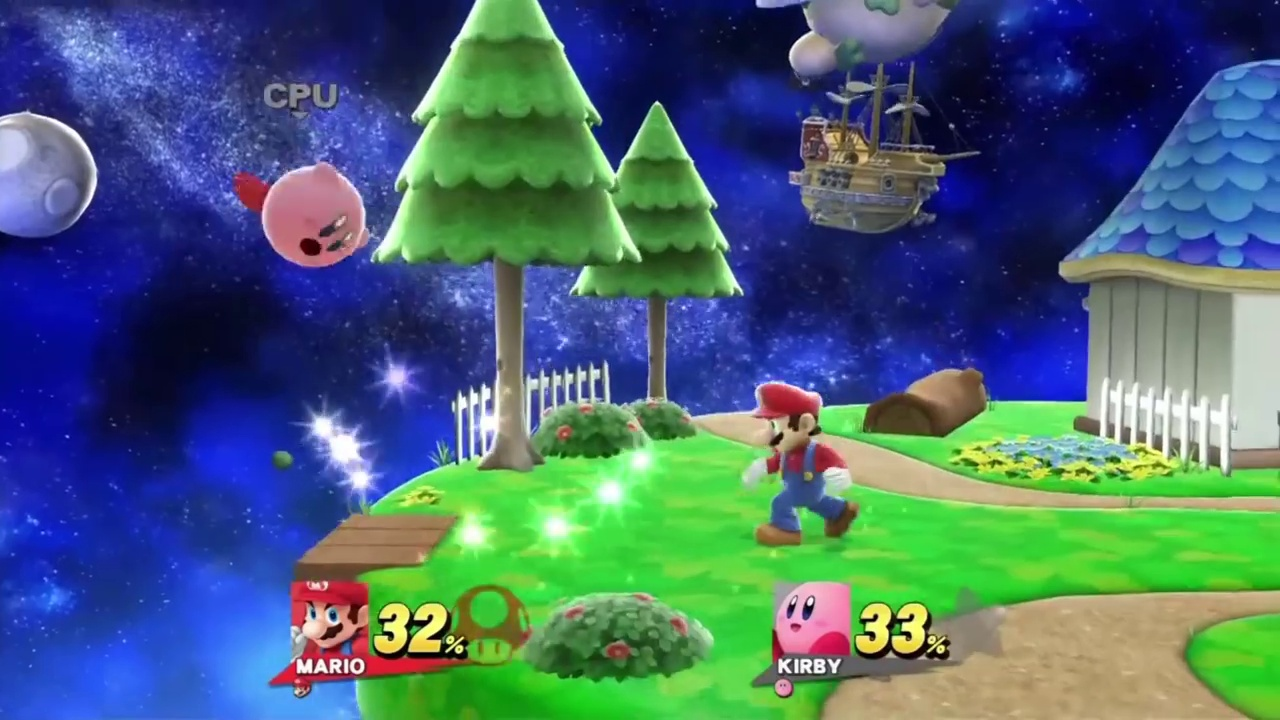Mario: (741, 383, 859, 547)
